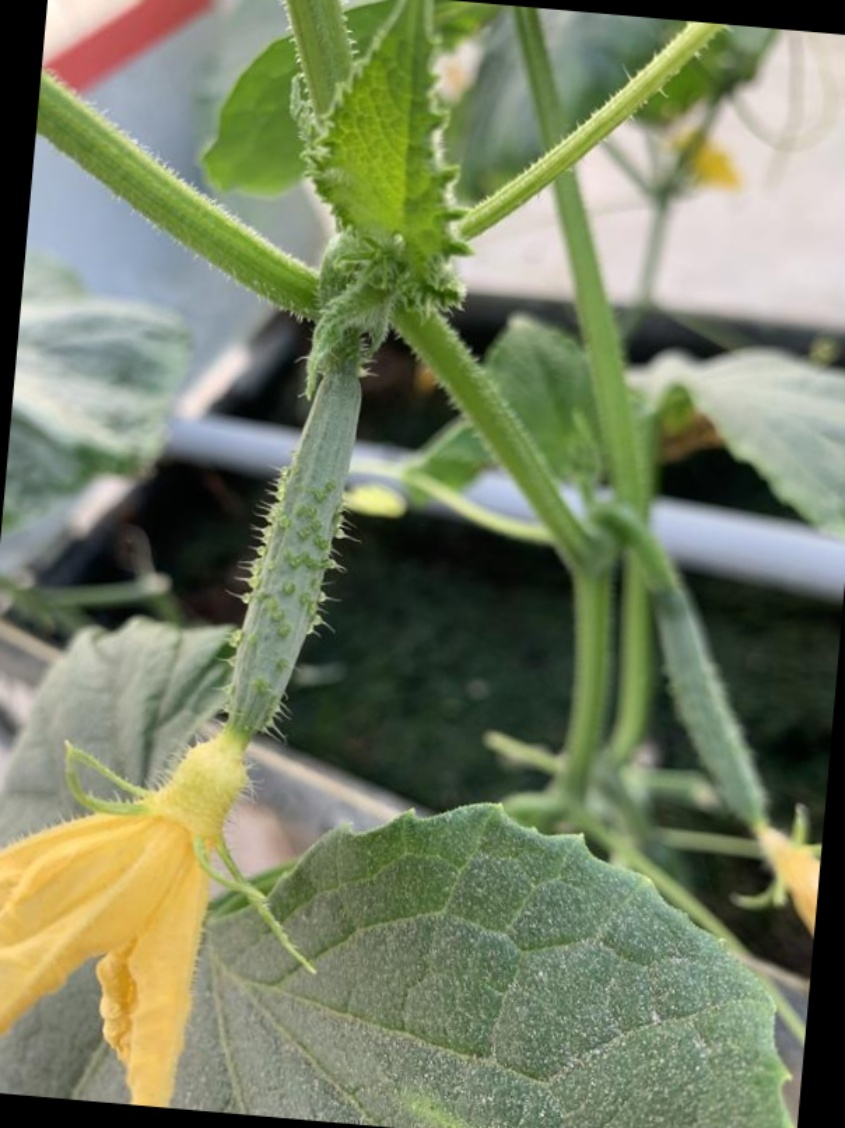bear: (0, 298, 430, 1017)
